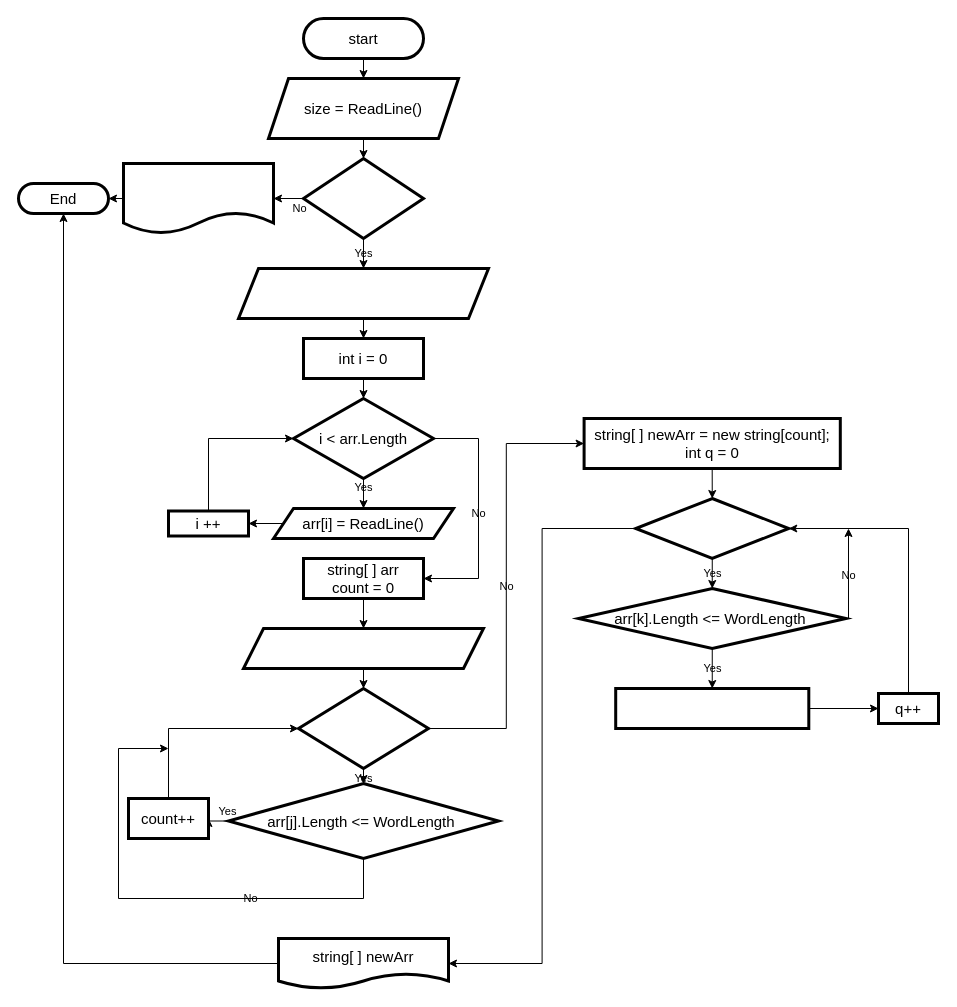
The diagram is 957 pixels wide and 1007 high, and some of its shapes have lost their labels. The shapes that lost their labels are listed below. From the top down, each one's centre as x and y in pixels, then its label:
point 198,198: Сообщение об ошибке!
point 363,198: if(!isSize)
point 363,293: string[ ] arr = new string[size]
point 712,528: k < arr.Length
point 363,648: WordLength = ReadLine()
point 363,728: j < arr.Length
point 712,708: newArr[q] = arr[k]
